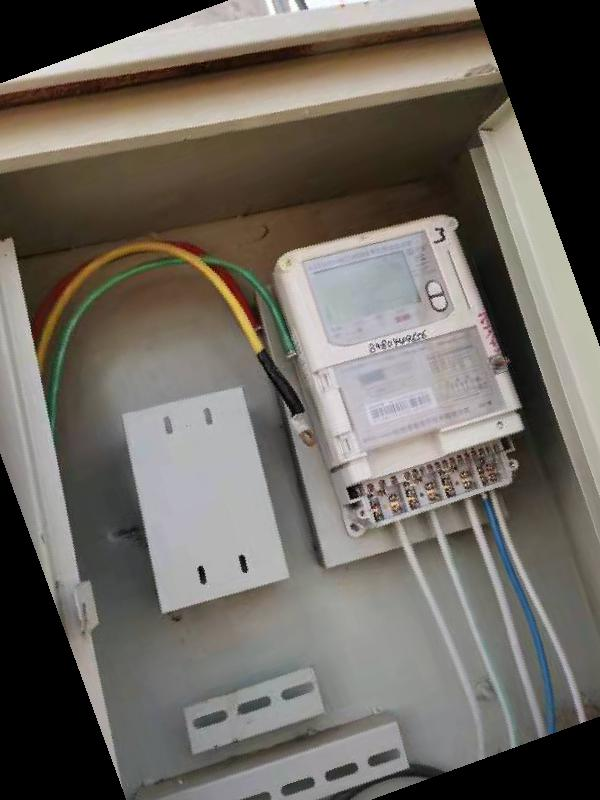digital: (273, 212, 517, 470)
